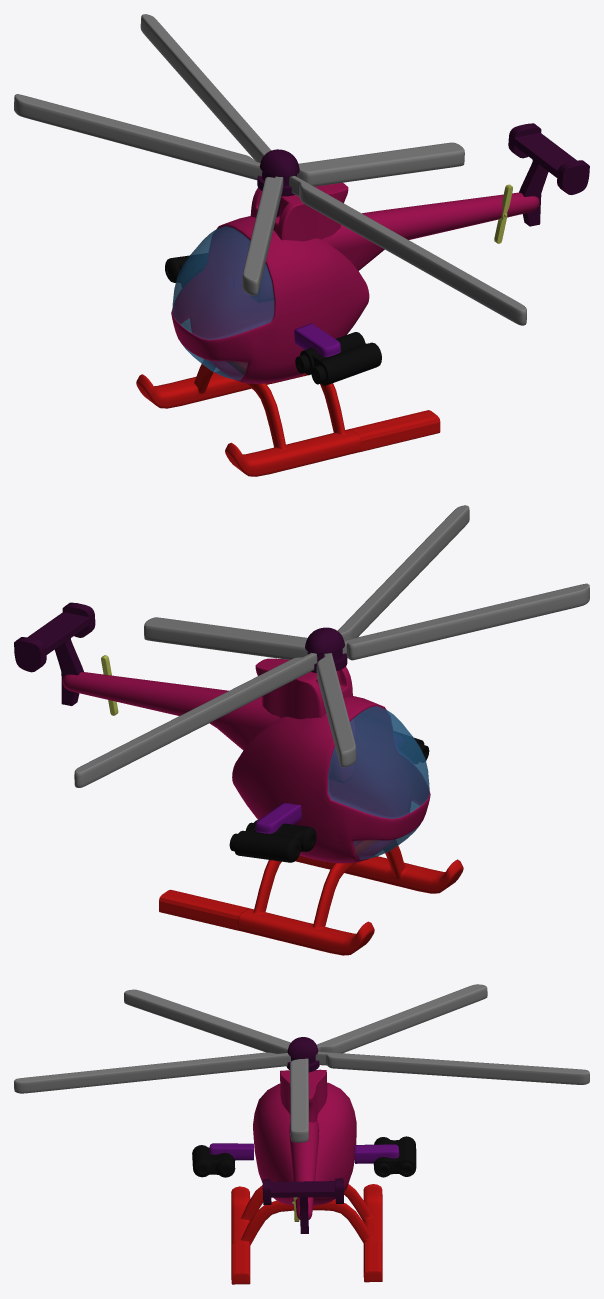
Rendered from helicopter.FBX.
3 views of the same model, one above another, from view 1: azimuth 30°, elevation 25°; view 2: azimuth 150°, elevation 25°; view 3: azimuth 270°, elevation 25° (orthographic). The views are drawn at different scales.
Parts seen in each view (by area): view 1: 18717_Observation_scout_helicopter_w_rocket_v1; view 2: 18717_Observation_scout_helicopter_w_rocket_v1; view 3: 18717_Observation_scout_helicopter_w_rocket_v1.
Part boxes in pixels (x1,y1,x2,y2): 18717_Observation_scout_helicopter_w_rocket_v1: (14,14,589,476); 18717_Observation_scout_helicopter_w_rocket_v1: (14,505,589,955); 18717_Observation_scout_helicopter_w_rocket_v1: (14,984,589,1284).
Bounding box in the file's own units: 5.91 × 3.61 × 9.15.
